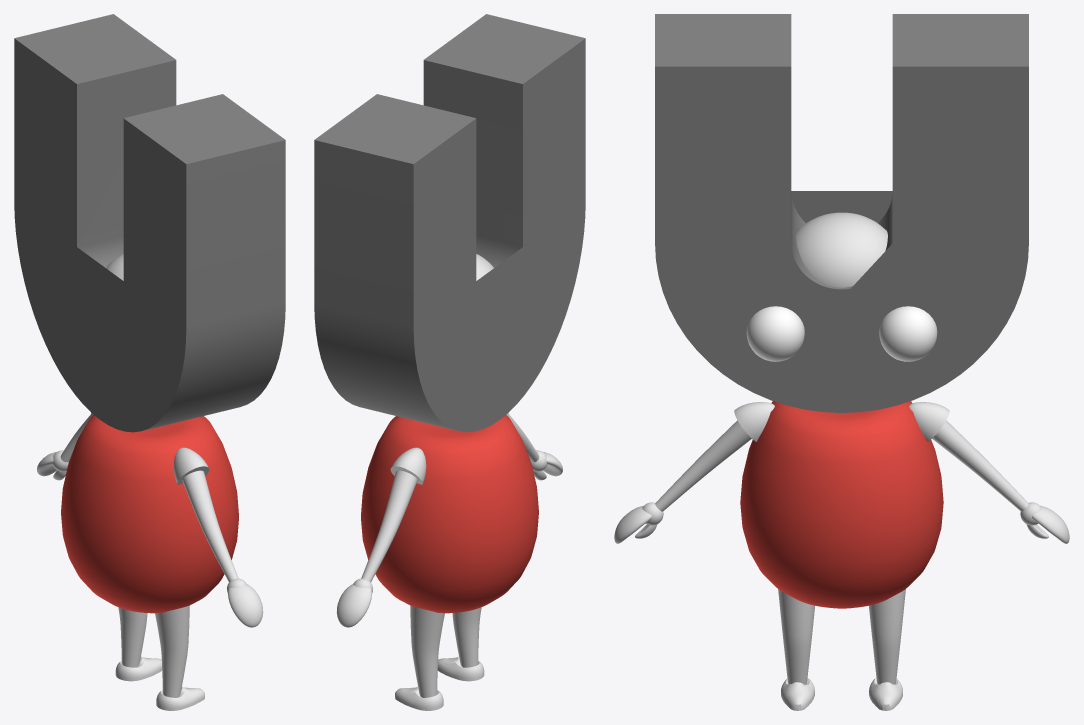
Rendered from i-man.fbx.
3 renders of one model, left to right at view 1: azimuth 30°, elevation 25°; view 2: azimuth 150°, elevation 25°; view 3: azimuth 270°, elevation 25°, orthographic. The views are drawn at different scales.
Visible parts, largest first — view 1: Cylinder, Sphere.015, Cylinder.004, Cylinder.005, Cylinder.003, Sphere.008, Sphere.011, Sphere.003, Sphere.002; view 2: Cylinder, Sphere.015, Cylinder.003, Cylinder.002, Cylinder.004, Sphere.004, Sphere.007, Sphere.002, Sphere.003; view 3: Cylinder, Sphere.015, Sphere.012, Sphere.013, Sphere.014, Cylinder.003, Cylinder.004, Cylinder.002, Cylinder.005, Sphere.011, Sphere.007, Sphere.002 (+3 smaller).
Boxes of the visible parts, x1,y1,x2,y2 form: Cylinder: (14, 14, 285, 432); Sphere.015: (61, 415, 238, 613); Cylinder.004: (155, 605, 189, 697); Cylinder.005: (182, 470, 238, 581); Cylinder.003: (118, 607, 147, 667); Sphere.008: (228, 584, 263, 627); Sphere.011: (173, 447, 209, 484); Sphere.003: (156, 686, 204, 710); Sphere.002: (115, 656, 162, 681); Cylinder: (314, 14, 585, 432); Sphere.015: (361, 415, 538, 613); Cylinder.003: (410, 605, 444, 697); Cylinder.002: (361, 470, 417, 581); Cylinder.004: (452, 607, 481, 667); Sphere.004: (336, 584, 371, 627); Sphere.007: (390, 447, 426, 484); Sphere.002: (395, 686, 443, 710); Sphere.003: (437, 656, 484, 681); Cylinder: (655, 14, 1028, 412); Sphere.015: (740, 401, 943, 608); Sphere.012: (796, 212, 887, 287); Sphere.013: (879, 306, 937, 361); Sphere.014: (746, 306, 804, 361); Cylinder.003: (869, 589, 905, 684); Cylinder.004: (778, 589, 814, 684); Cylinder.002: (932, 420, 1028, 511); Cylinder.005: (655, 420, 751, 511); Sphere.011: (734, 402, 774, 441); Sphere.007: (909, 402, 949, 441); Sphere.002: (869, 678, 902, 710).
Size of the model in its own units: 29.22 by 111 by 69.95.
